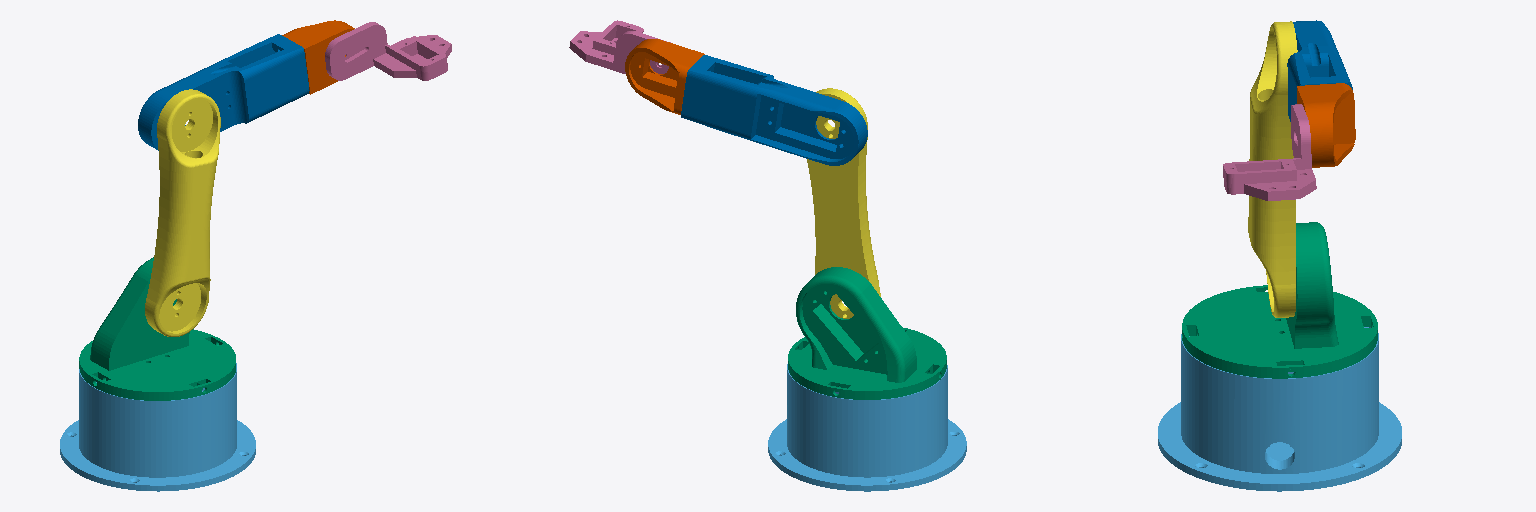
The robot description file, URDF, robot "Full":
<?xml version='1.0' encoding='utf-8'?>
<robot name="Full">

    <!-- 
    1) Add a "world" link for a global reference frame
    2) Attach your existing base ("Base-v1") to it with one fixed joint
    -->
    <link name="world"/>

    <!-- 
    Adjust <origin> here to rotate/translate the entire robot as needed.
    - xyz="0 0 0"   means no shift up/down
    - rpy="1.57 0 0" means rotate 90 deg around X-axis
      (You may need to try -1.57 or 0 0 1.57, etc.)
    -->
    <joint name="world_joint" type="fixed">
        <parent link="world"/>
        <child link="Base-v1"/>
        <origin xyz="0 0 0" rpy="1.57 0 0"/>
    </joint>


    <!-- =========================
         Your ORIGINAL Code Below
         (Unchanged)
    ========================= -->

    <link name="Base-v1">
        <inertial>
            <origin xyz="0 0 0" rpy="0.0 1.57 0.0" />
            <mass value="1.5841960851584953" />
            <inertia ixx="0.0019343925509478547" iyy="0.002922564697452351" izz="0.0019280909894288623" ixy="-1.4029039136296486e-06" iyz="2.7242454120453767e-17" ixz="-3.2677516034636543e-18" />
        </inertial>
        <visual name="Base-v1_visual">
            <origin xyz="0.0 0.0 0.0" rpy="0.0 0.0 0.0" />
            <geometry>
                <mesh filename="package://my_robot_description/meshes/Base-v1.stl" scale="0.001 0.001 0.001" />
            </geometry>
        </visual>
        <collision name="Base-v1_collision">
            <origin xyz="0.0 0.0 0.0" rpy="0.0 0.0 0.0" />
            <geometry>
                <mesh filename="package://my_robot_description/meshes/Base-v1.stl" scale="0.001 0.001 0.001" />
            </geometry>
        </collision>
    </link>

    <link name="Waist-v1">
        <inertial>
            <origin xyz="0.0012671681495757638 0.005720672514226869 0.01632898614142321" rpy="0.0 -0.0 0.0" />
            <mass value="0.6272819365021121" />
            <inertia ixx="0.0004377588788490507" iyy="0.0005327919075018514" izz="0.0005395501272474572" ixy="-1.7339262852157017e-05" iyz="-5.605813743030287e-05" ixz="-4.759883007256091e-05" />
        </inertial>
        <visual name="Waist-v1_visual">
            <origin xyz="0.0 0.0 0.0" rpy="1.5707963267948968 -7.203005260804219e-18 -1.4528893219072108" />
            <geometry>
                <mesh filename="package://my_robot_description/meshes/Waist-v1.stl" scale="0.001 0.001 0.001" />
            </geometry>
        </visual>
        <collision name="Waist-v1_collision">
            <origin xyz="0.0 0.0 0.0" rpy="1.5707963267948968 -7.203005260804219e-18 -1.4528893219072108" />
            <geometry>
                <mesh filename="package://my_robot_description/meshes/Waist-v1.stl" scale="0.001 0.001 0.001" />
            </geometry>
        </collision>
    </link>

    <link name="Arm-01-v1">
        <inertial>
            <origin xyz="0.007174161454748397 -0.05982184214783512 0.005504623173362247" rpy="0.0 -0.0 1.3684555315672045e-48" />
            <mass value="0.5029413662942186" />
            <inertia ixx="0.0008522938497419646" iyy="7.686209564411288e-05" izz="0.0008108304972406861" ixy="-6.706821171419653e-06" iyz="5.662120103047088e-05" ixz="4.9817861280901726e-06" />
        </inertial>
        <visual name="Arm-01-v1_visual">
            <origin xyz="0.02085419969719422 -1.759331169637335e-10 0.002470318416282509" rpy="2.5649350238110364 1.4300054615061795 -0.5812116897024879" />
            <geometry>
                <mesh filename="package://my_robot_description/meshes/Arm-01-v1.stl" scale="0.001 0.001 0.001" />
            </geometry>
        </visual>
        <collision name="Arm-01-v1_collision">
            <origin xyz="0.02085419969719422 -1.759331169637335e-10 0.002470318416282509" rpy="2.5649350238110364 1.4300054615061795 -0.5812116897024879" />
            <geometry>
                <mesh filename="package://my_robot_description/meshes/Arm-01-v1.stl" scale="0.001 0.001 0.001" />
            </geometry>
        </collision>
    </link>

    <link name="Arm-02-v1">
        <inertial>
            <origin xyz="0.04033452449803634 -0.005887075033096139 0.010537757709928177" rpy="0.0 -0.0 1.3781443036412878e-51" />
            <mass value="0.36971477325871516" />
            <inertia ixx="7.939089821021664e-05" iyy="0.00039673314565697674" izz="0.00042494093163040017" ixy="4.681551753867899e-05" iyz="5.0953767501994975e-06" ixz="-3.829122998024289e-05" />
        </inertial>
        <visual name="Arm-02-v1_visual">
            <origin xyz="0.034166955741842905 -0.004878619609602488 0.0040472972561662116" rpy="0.01662879336355181 -0.11673389487020806 -0.1418289303686558" />
            <geometry>
                <mesh filename="package://my_robot_description/meshes/Arm-02-v1.stl" scale="0.001 0.001 0.001" />
            </geometry>
        </visual>
        <collision name="Arm-02-v1_collision">
            <origin xyz="0.034166955741842905 -0.004878619609602488 0.0040472972561662116" rpy="0.01662879336355181 -0.11673389487020806 -0.1418289303686558" />
            <geometry>
                <mesh filename="package://my_robot_description/meshes/Arm-02-v1.stl" scale="0.001 0.001 0.001" />
            </geometry>
        </collision>
    </link>

    <link name="Arm-03-v1">
        <inertial>
            <origin xyz="0.003328612803981841 -0.007404315259190107 0.017448896435718737" rpy="-2.465190328815662e-32 -0.0 0.0" />
            <mass value="0.12929221233201882" />
            <inertia ixx="4.0094875349528186e-05" iyy="3.0462929850060008e-05" izz="1.9847803382298114e-05" ixy="6.030740574837314e-07" iyz="1.3258067531208419e-06" ixz="-2.1613852940017644e-06" />
        </inertial>
        <visual name="Arm-03-v1_visual">
            <origin xyz="0.0001690876726700985 -0.004949724022803252 -0.0006867318389041622" rpy="1.6922892426684695 0.13778155669737305 -1.5366481469545703" />
            <geometry>
                <mesh filename="package://my_robot_description/meshes/Arm-03-v1.stl" scale="0.001 0.001 0.001" />
            </geometry>
        </visual>
        <collision name="Arm-03-v1_collision">
            <origin xyz="0.0001690876726700985 -0.004949724022803252 -0.0006867318389041622" rpy="1.6922892426684695 0.13778155669737305 -1.5366481469545703" />
            <geometry>
                <mesh filename="package://my_robot_description/meshes/Arm-03-v1.stl" scale="0.001 0.001 0.001" />
            </geometry>
        </collision>
    </link>

    <link name="Gripper-base-v1">
        <inertial>
            <origin xyz="0.0292647906259794 -0.002631942888767611 0.010253676982615754" rpy="0.0 -0.0 0.0" />
            <mass value="0.10945811404763497" />
            <inertia ixx="1.94992583529615e-05" iyy="5.966723053334393e-05" izz="4.8834325374494045e-05" ixy="3.877433040869009e-06" iyz="2.0979126872018253e-06" ixz="-1.1952067406254616e-05" />
        </inertial>
        <visual name="Gripper-base-v1_visual">
            <origin xyz="0.06317908557859961 -6.481971089158378e-05 -0.0076419014602130565" rpy="-2.8590026992489808 -1.4492177082657172 -0.14275123841046303" />
            <geometry>
                <mesh filename="package://my_robot_description/meshes/Gripper-base-v1.stl" scale="0.001 0.001 0.001" />
            </geometry>
        </visual>
        <collision name="Gripper-base-v1_collision">
            <origin xyz="0.06317908557859961 -6.481971089158378e-05 -0.0076419014602130565" rpy="-2.8590026992489808 -1.4492177082657172 -0.14275123841046303" />
            <geometry>
                <mesh filename="package://my_robot_description/meshes/Gripper-base-v1.stl" scale="0.001 0.001 0.001" />
            </geometry>
        </collision>
    </link>

    <joint name="Base-v1_Revolute-1" type="continuous">
        <origin xyz="0.0 0.055999999999999994 0.0" rpy="-1.5707963267948966 -0.0 0.0" />
        <parent link="Base-v1" />
        <child link="Waist-v1" />
        <axis xyz="0.0 0.0 1.0" />
    </joint>
    <joint name="Waist-v1_Revolute-3" type="continuous">
        <origin xyz="0.01335133 0.00560952 0.04027648000000001" rpy="-1.5707963267948966 1.2325951644078312e-32 -1.5707963267948966" />
        <parent link="Waist-v1" />
        <child link="Arm-01-v1" />
        <axis xyz="0.9930569999999999 0.0 0.11763399999999999" />
    </joint>
    <joint name="Arm-01-v1_Revolute-4" type="continuous">
        <origin xyz="-0.0010875599999999996 -0.11964332 0.00918113" rpy="-1.232595164407831e-32 -1.5707963267948966 0" />
        <parent link="Arm-01-v1" />
        <child link="Arm-02-v1" />
        <axis xyz="0.11763399999999999 -8.672654608354869e-19 -0.9930570000000002" />
    </joint>
    <joint name="Arm-02-v1_Revolute-6" type="continuous">
        <origin xyz="0.08833608000000003 -0.007352670000000039 0.016002429999999998" rpy="1.3424705426259952e-16 1.5707963267948966 0" />
        <parent link="Arm-02-v1" />
        <child link="Arm-03-v1" />
        <axis xyz="-0.11646900000000003 -0.14039199999999985 0.9832220000000003" />
    </joint>
    <joint name="Arm-03-v1_Revolute-7" type="continuous">
        <origin xyz="0.01080461 -0.008639139999999976 0.028524119999999976" rpy="-3.141592653589793 -1.5707963267948966 0" />
        <parent link="Arm-03-v1" />
        <child link="Gripper-base-v1" />
        <axis xyz="-0.120046 0.017253999999999995 -0.992618" />
    </joint>

</robot>

--- What the picture shows (computed from the rendered views, not written in the file) ---
3 views of the same robot in one strip: view 1: azimuth 30°, elevation 25°; view 2: azimuth 150°, elevation 25°; view 3: azimuth 270°, elevation 25° (orthographic).
Robot: Full — 7 links, 6 joints (5 continuous, 1 fixed); root link world; default pose: every joint at zero.
Visible links, largest first — view 1: Base-v1, Arm-01-v1, Waist-v1, Arm-02-v1, Gripper-base-v1, Arm-03-v1; view 2: Base-v1, Waist-v1, Arm-02-v1, Arm-01-v1, Arm-03-v1, Gripper-base-v1; view 3: Base-v1, Waist-v1, Arm-01-v1, Gripper-base-v1, Arm-03-v1, Arm-02-v1.
Boxes of the visible links, bbox=[...] form: Base-v1: bbox=[60, 363, 255, 491]; Arm-01-v1: bbox=[145, 89, 220, 336]; Waist-v1: bbox=[79, 257, 235, 400]; Arm-02-v1: bbox=[138, 34, 309, 150]; Gripper-base-v1: bbox=[325, 22, 451, 80]; Arm-03-v1: bbox=[282, 20, 354, 94]; Base-v1: bbox=[768, 364, 966, 491]; Waist-v1: bbox=[788, 267, 946, 399]; Arm-02-v1: bbox=[681, 55, 867, 165]; Arm-01-v1: bbox=[807, 88, 880, 318]; Arm-03-v1: bbox=[625, 39, 704, 114]; Gripper-base-v1: bbox=[569, 20, 670, 73]; Base-v1: bbox=[1158, 327, 1401, 491]; Waist-v1: bbox=[1182, 222, 1377, 378]; Arm-01-v1: bbox=[1248, 21, 1297, 317]; Gripper-base-v1: bbox=[1223, 104, 1316, 200]; Arm-03-v1: bbox=[1297, 83, 1355, 167]; Arm-02-v1: bbox=[1287, 20, 1352, 121].
Size in the robot's own frame: 0.267 by 0.1212 by 0.2489 metres.
Meshes: 6 distinct files referenced, 6 mesh visuals loaded (6 binary STL).